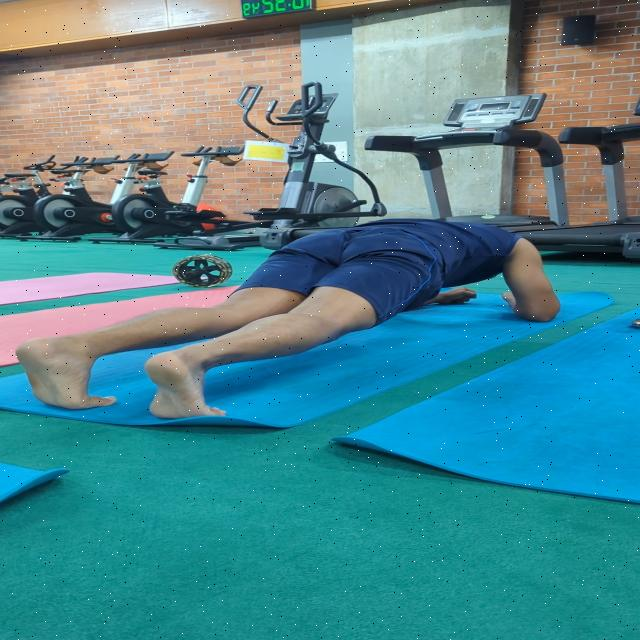Normal_Plunk: (2, 206, 569, 436)
